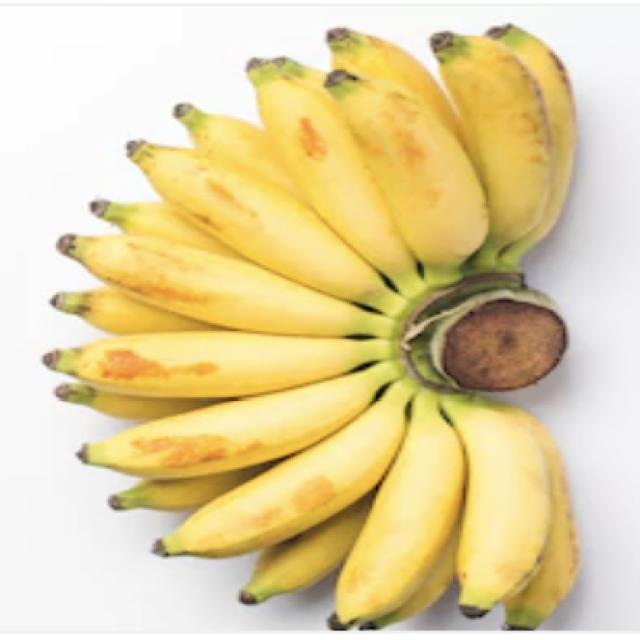Banana: (43, 22, 582, 631)
